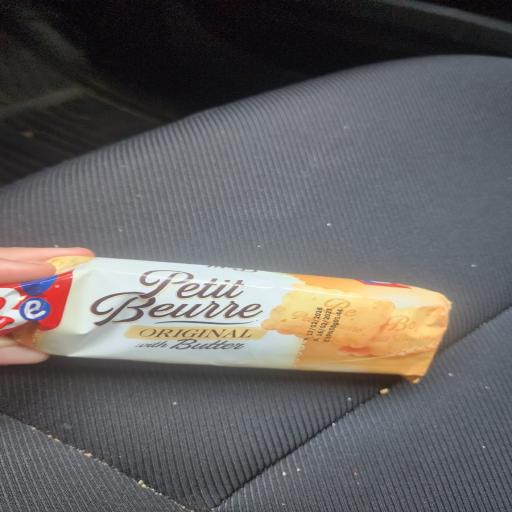petit_beurre: (3, 232, 512, 434)
